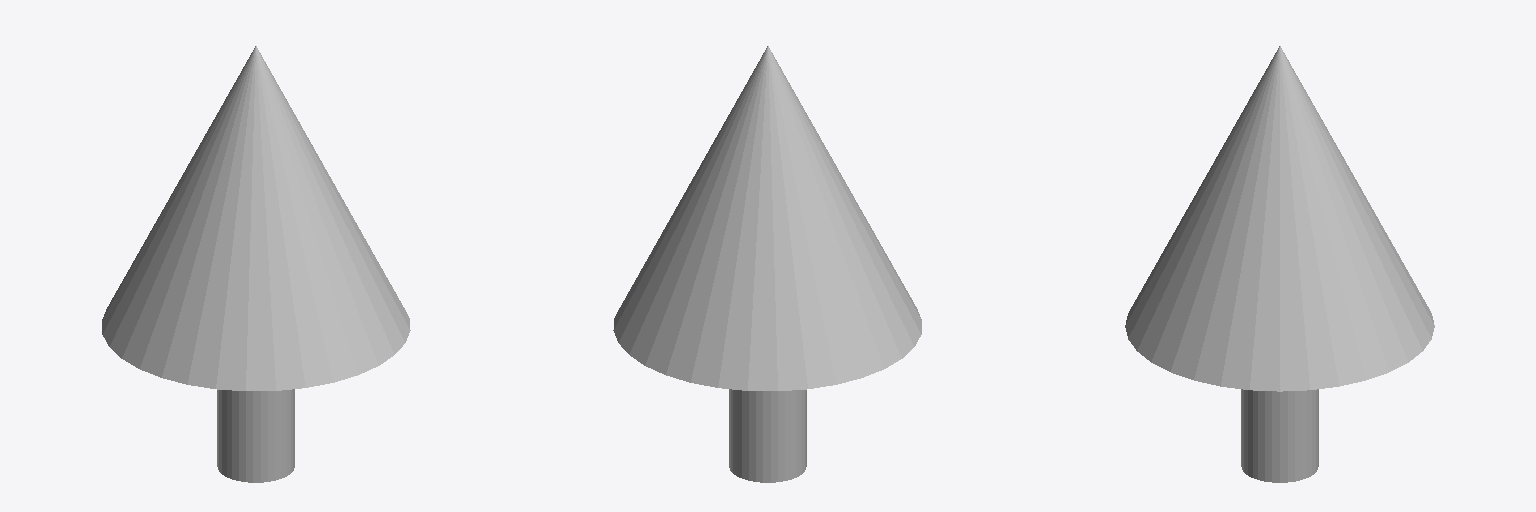
Rendered from tree2.obj.
3 renders of one model, left to right at view 1: azimuth 30°, elevation 25°; view 2: azimuth 150°, elevation 25°; view 3: azimuth 270°, elevation 25°, orthographic.
Parts seen in each view (by area): view 1: Cylinder; view 2: Cylinder; view 3: Cylinder.
Part boxes in pixels (left/top/right/bottom): Cylinder: left=102, top=46, right=410, bottom=482; Cylinder: left=613, top=46, right=921, bottom=482; Cylinder: left=1125, top=46, right=1434, bottom=482.
Size of the model in its own units: 4 by 6 by 4.